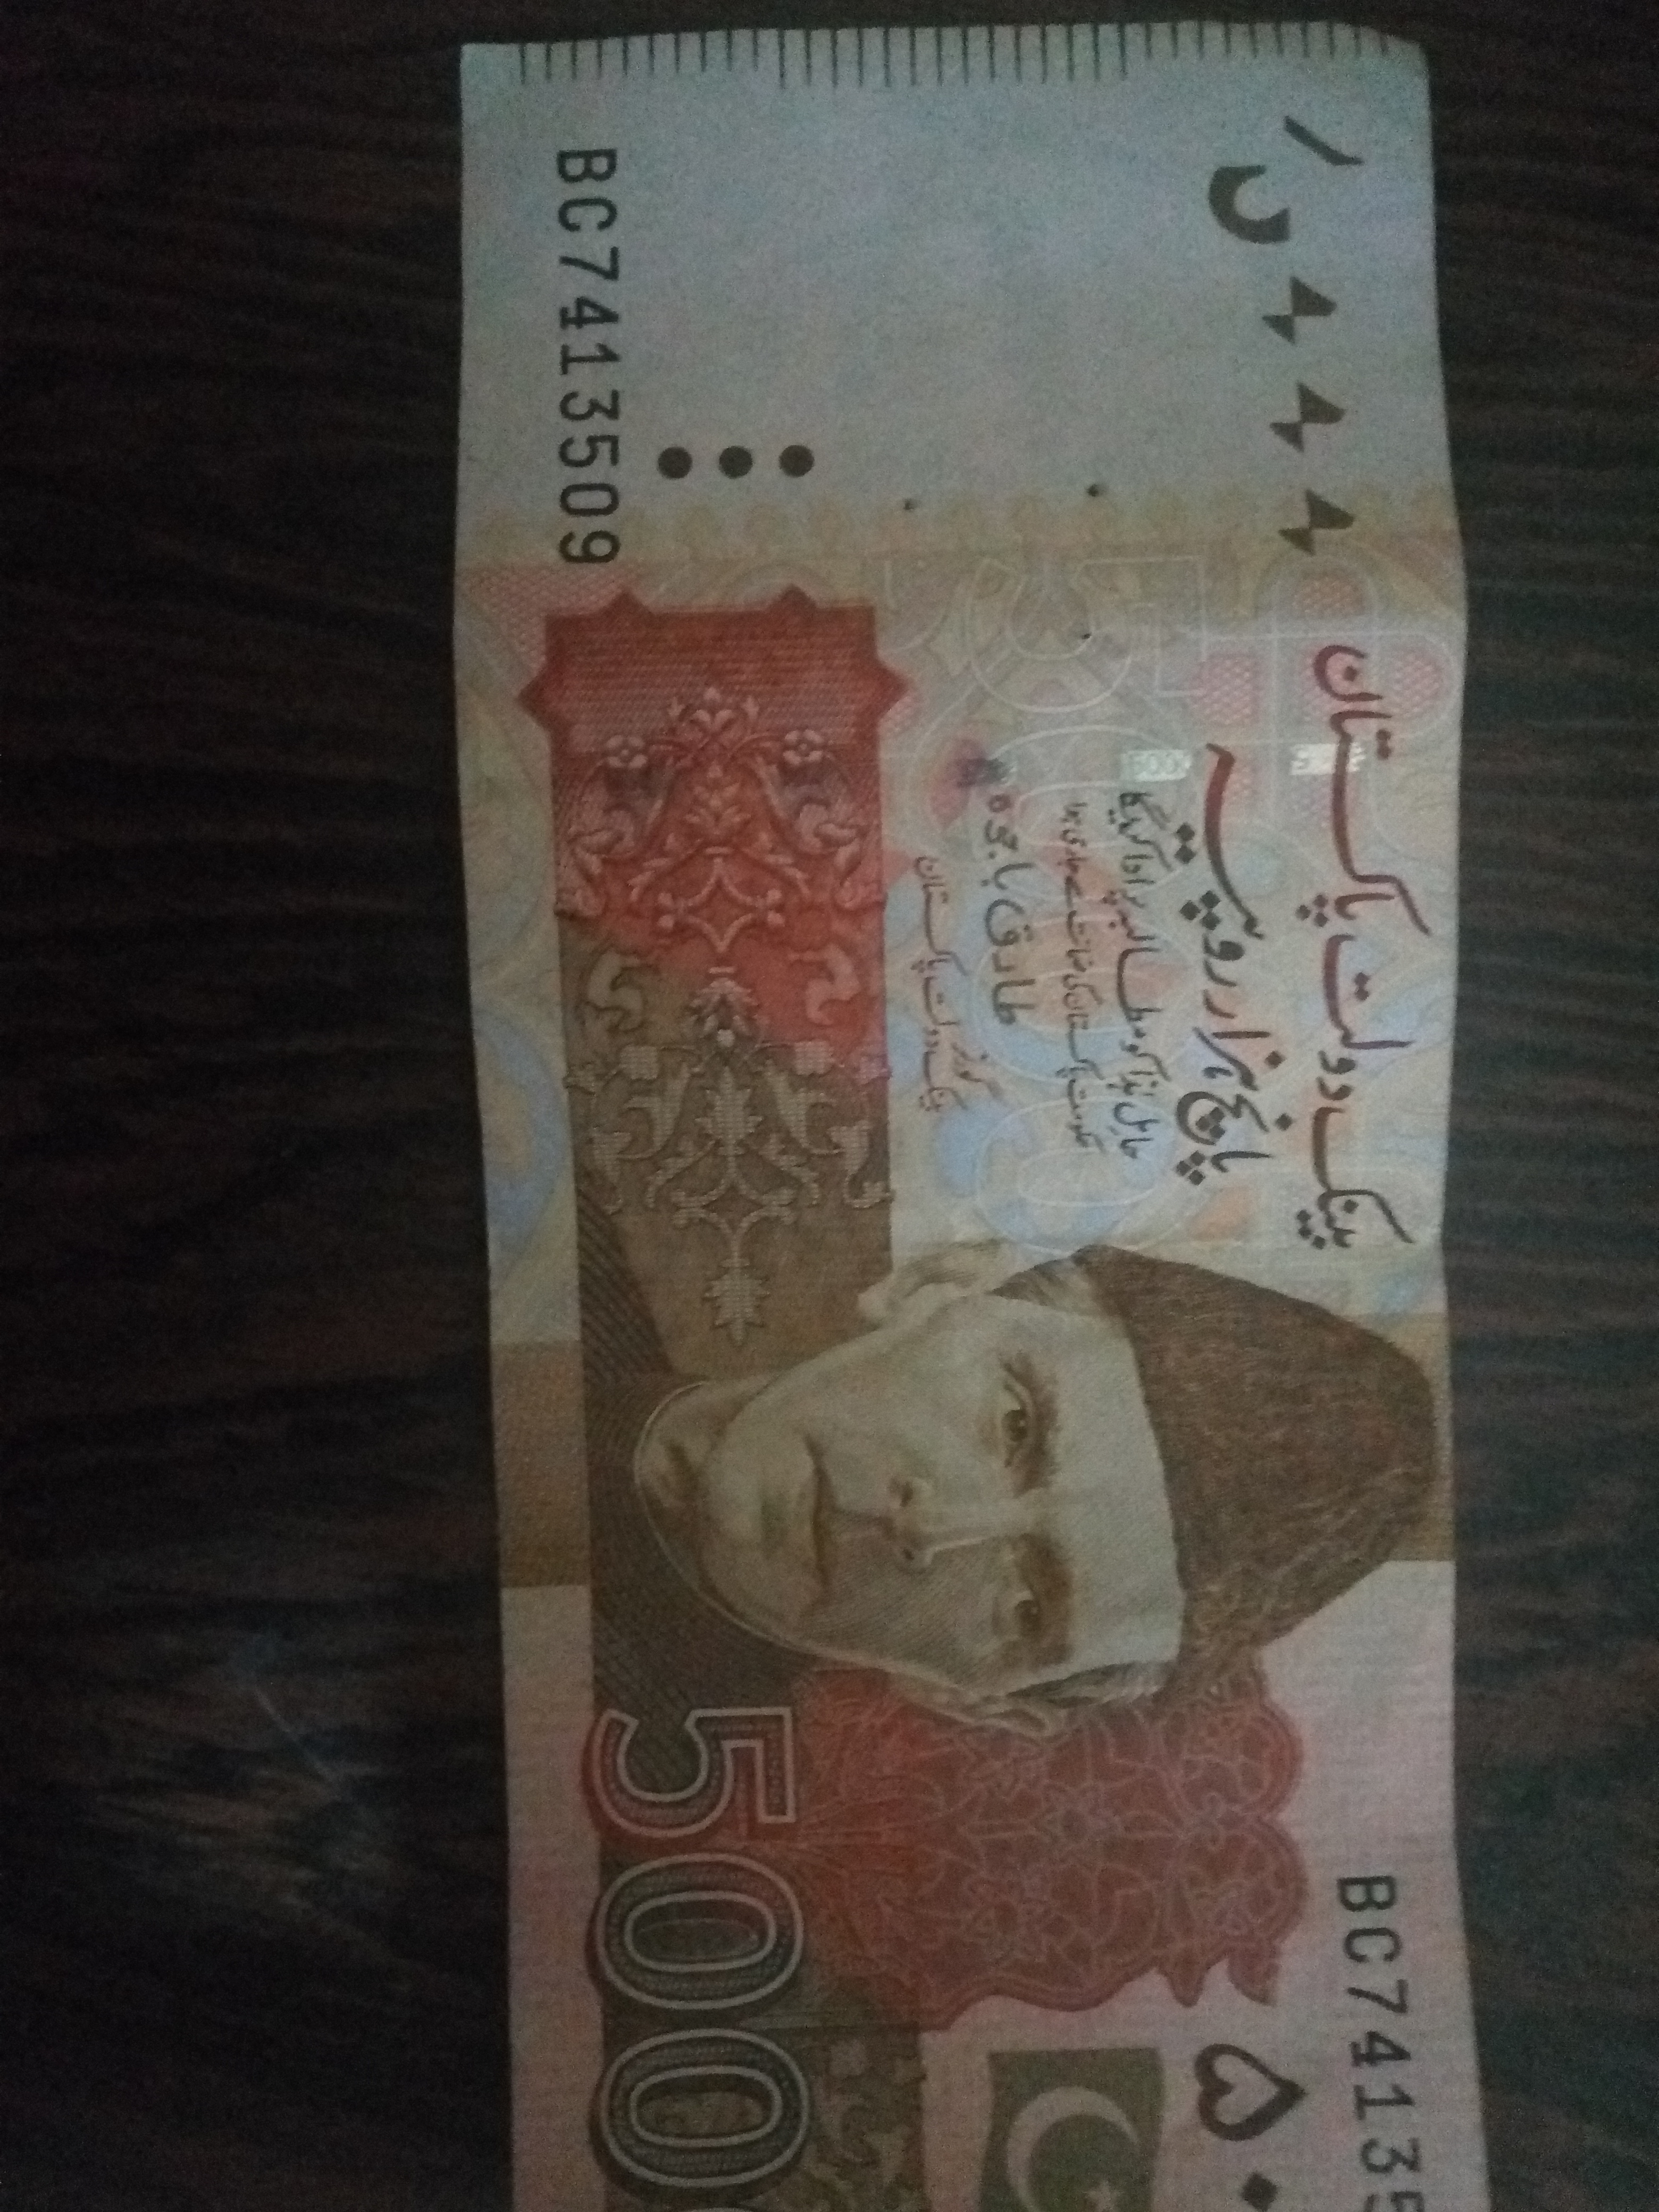5000 rupee: (434, 33, 1516, 2203)
